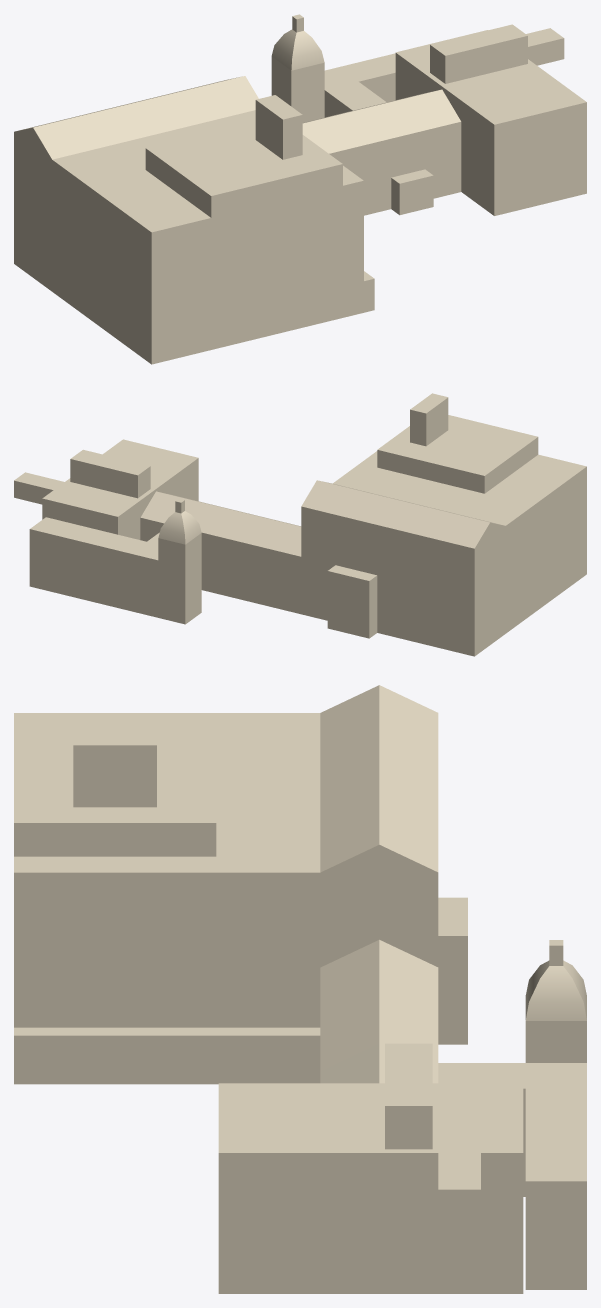
The model's file is SM_Royal_College_of_Science_Building.fbx.
3 views of the same model, one above another, from view 1: azimuth 30°, elevation 25°; view 2: azimuth 150°, elevation 25°; view 3: azimuth 270°, elevation 25° (orthographic). The views are drawn at different scales.
Parts seen in each view (by area): view 1: SM_Royal_College_of_Science_Building; view 2: SM_Royal_College_of_Science_Building; view 3: SM_Royal_College_of_Science_Building.
Part boxes in pixels (<box>): SM_Royal_College_of_Science_Building: <box>14,14,586,364</box>; SM_Royal_College_of_Science_Building: <box>14,393,586,656</box>; SM_Royal_College_of_Science_Building: <box>14,685,586,1293</box>.
Size of the model in its own units: 97.23 by 32.79 by 56.89.
